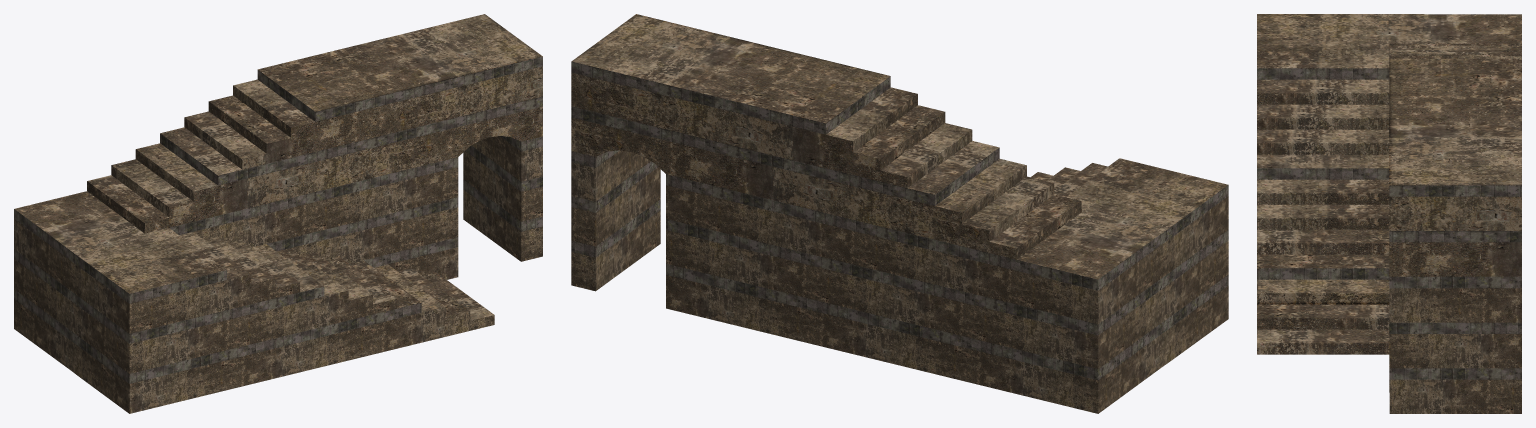
Rendered from materials_5_stairblock_3.fbx.
3 views of the same model, side by side, from view 1: azimuth 30°, elevation 25°; view 2: azimuth 150°, elevation 25°; view 3: azimuth 270°, elevation 25° (orthographic). The views are drawn at different scales.
Parts seen in each view (by area): view 1: materials_5_stairblock_3; view 2: materials_5_stairblock_3; view 3: materials_5_stairblock_3.
Boxes of the visible parts, x1=… form: materials_5_stairblock_3: x1=14, y1=14, x2=542, y2=413; materials_5_stairblock_3: x1=571, y1=14, x2=1228, y2=413; materials_5_stairblock_3: x1=1257, y1=14, x2=1521, y2=413.
Size of the model in its own units: 706 by 287 by 301.
